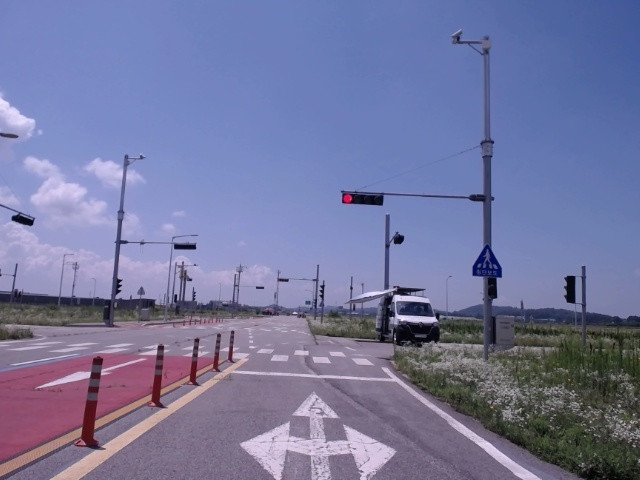red_4: (342, 193, 384, 205)
